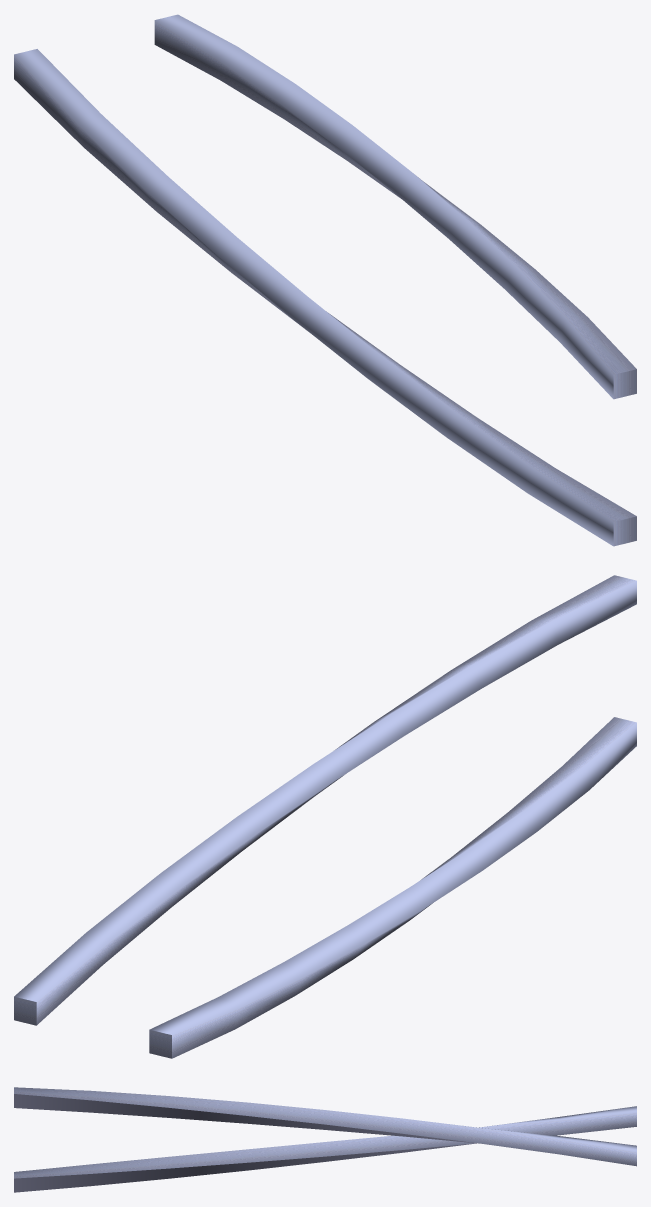
Rendered from railroad-rail-straight-skew-right-side.glb.
3 views of the same model, one above another, from view 1: azimuth 30°, elevation 25°; view 2: azimuth 150°, elevation 25°; view 3: azimuth 270°, elevation 25° (orthographic). The views are drawn at different scales.
Visible parts, largest first — view 1: railroad-rail-straight-skew-right-side; view 2: railroad-rail-straight-skew-right-side; view 3: railroad-rail-straight-skew-right-side.
Boxes of the visible parts, <box> form: railroad-rail-straight-skew-right-side: <box>14,14,636,546</box>; railroad-rail-straight-skew-right-side: <box>14,575,636,1058</box>; railroad-rail-straight-skew-right-side: <box>14,1087,636,1192</box>.
Bounding box in the file's own units: 0.7134 × 0.7134 × 4.
1 material, 1 textured.
